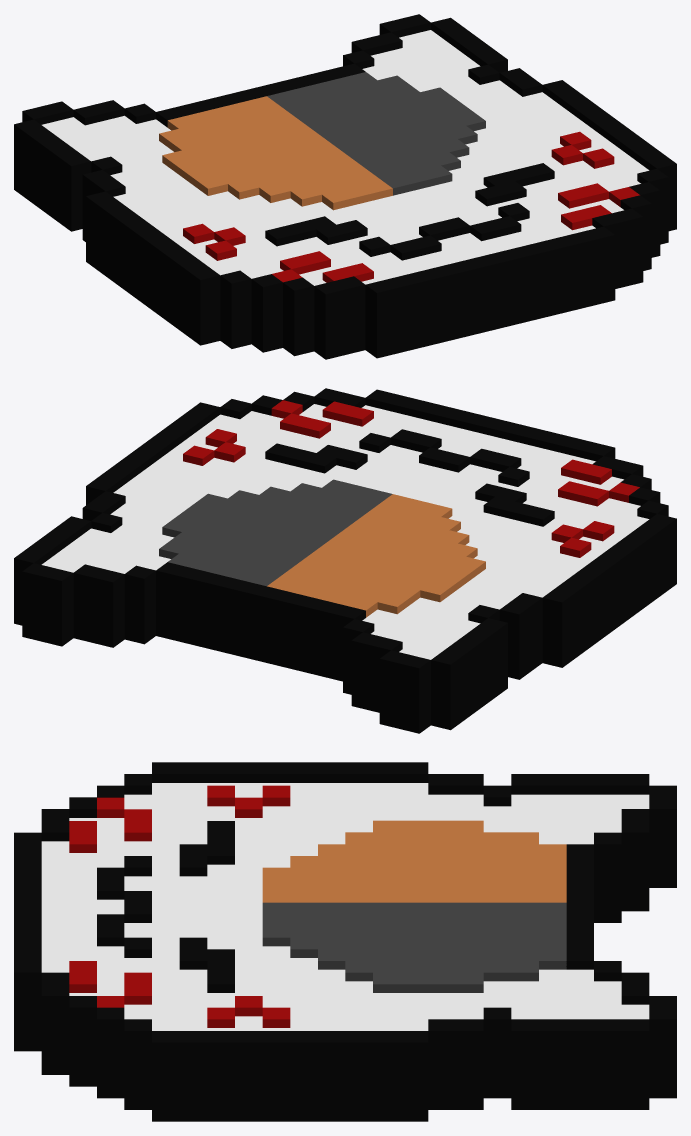
File: cat.glb
3 views of the same model, one above another, from view 1: azimuth 30°, elevation 25°; view 2: azimuth 150°, elevation 25°; view 3: azimuth 270°, elevation 25° (orthographic). The views are drawn at different scales.
Parts seen in each view (by area): view 1: Object_6, Object_2, Object_3, Object_4, Object_5; view 2: Object_6, Object_2, Object_3, Object_4, Object_5; view 3: Object_6, Object_2, Object_4, Object_3, Object_5.
Part boxes in pixels (x1=…): Object_6: x1=14, y1=14, x2=676, y2=359; Object_2: x1=42, y1=30, x2=649, y2=285; Object_3: x1=159, y1=96, x2=392, y2=210; Object_4: x1=267, y1=72, x2=485, y2=195; Object_5: x1=183, y1=131, x2=639, y2=282; Object_6: x1=14, y1=388, x2=676, y2=733; Object_2: x1=41, y1=404, x2=649, y2=659; Object_3: x1=267, y1=494, x2=485, y2=617; Object_4: x1=159, y1=479, x2=392, y2=586; Object_5: x1=183, y1=400, x2=639, y2=557; Object_6: x1=14, y1=762, x2=676, y2=1121; Object_2: x1=41, y1=783, x2=649, y2=1030; Object_4: x1=262, y1=902, x2=566, y2=992; Object_3: x1=262, y1=820, x2=566, y2=902; Object_5: x1=69, y1=785, x2=290, y2=1027.
Bounding box in the file's own units: 0.1941 × 0.0255 × 0.1941.
